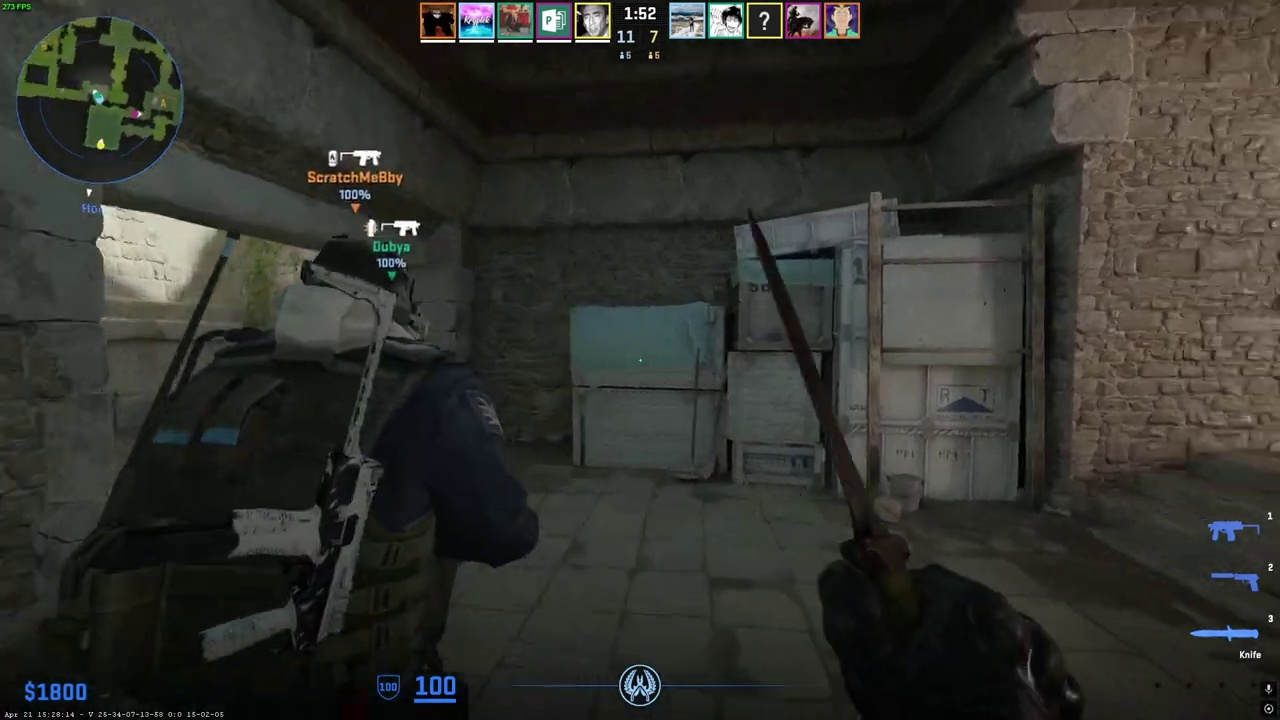CT: (109, 233, 514, 718)
